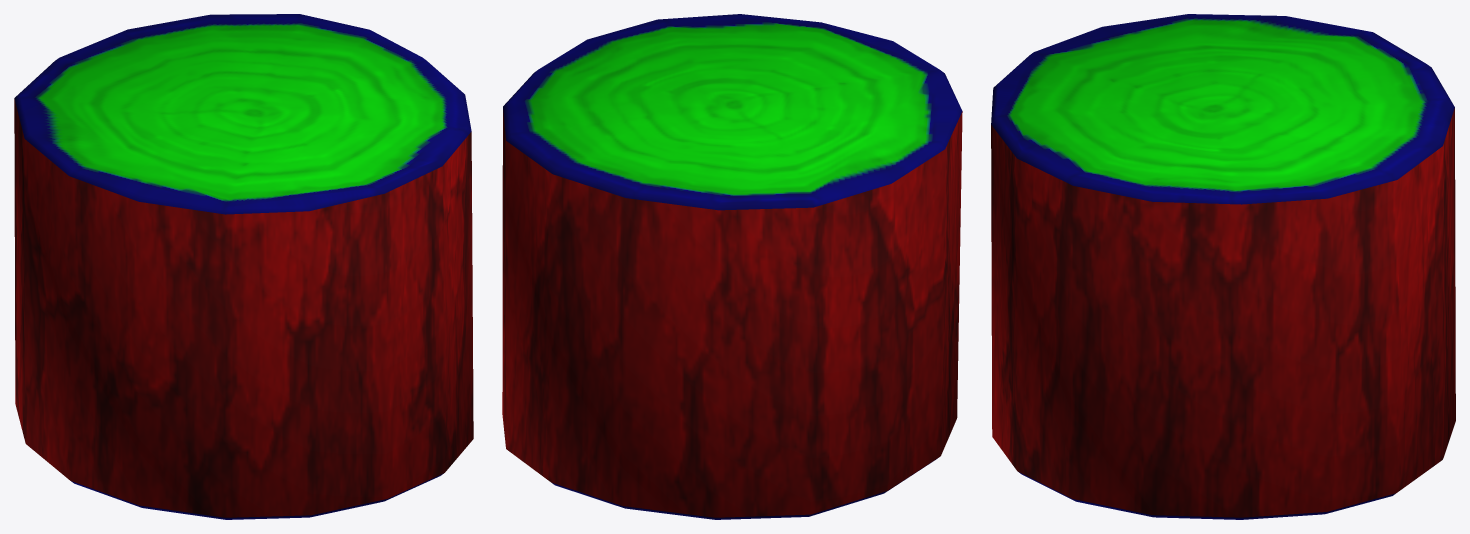
Rendered from ChoppingBlock01.fbx.
3 views of the same model, side by side, from view 1: azimuth 30°, elevation 25°; view 2: azimuth 150°, elevation 25°; view 3: azimuth 270°, elevation 25° (orthographic).
Parts seen in each view (by area): view 1: ChoppingBlock01_LOD0; view 2: ChoppingBlock01_LOD0; view 3: ChoppingBlock01_LOD0.
Boxes of the visible parts, x1,y1,x2,y2 form: ChoppingBlock01_LOD0: (14, 14, 473, 519); ChoppingBlock01_LOD0: (502, 14, 962, 519); ChoppingBlock01_LOD0: (991, 14, 1455, 519).
Size of what is drawn, in the model's own units: 0.4817 by 0.379 by 0.496.
